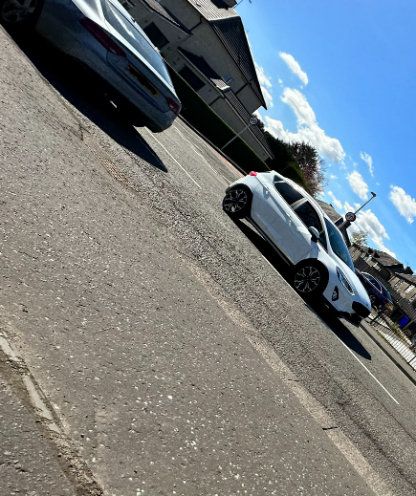car: (0, 0, 215, 151), (232, 149, 372, 328), (362, 262, 403, 316)
